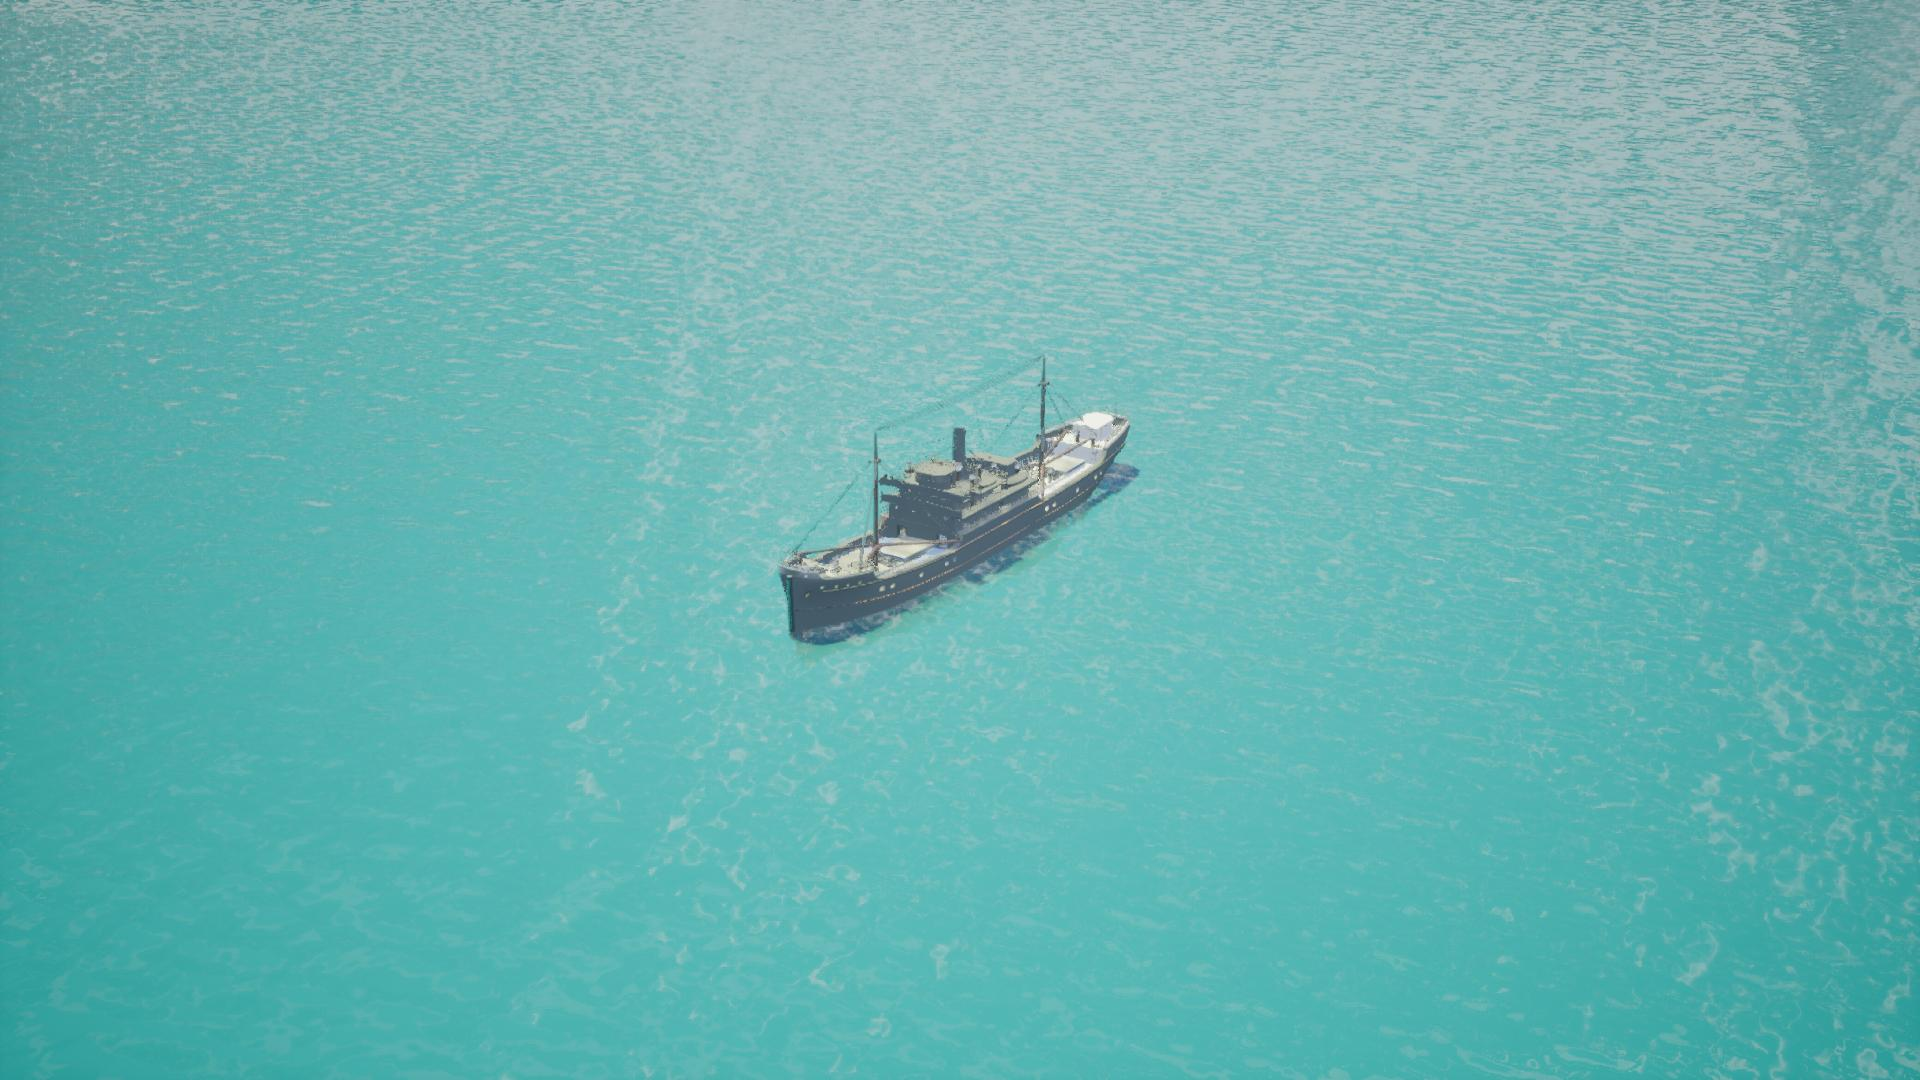Fishing Boat: (773, 408, 1145, 647)
